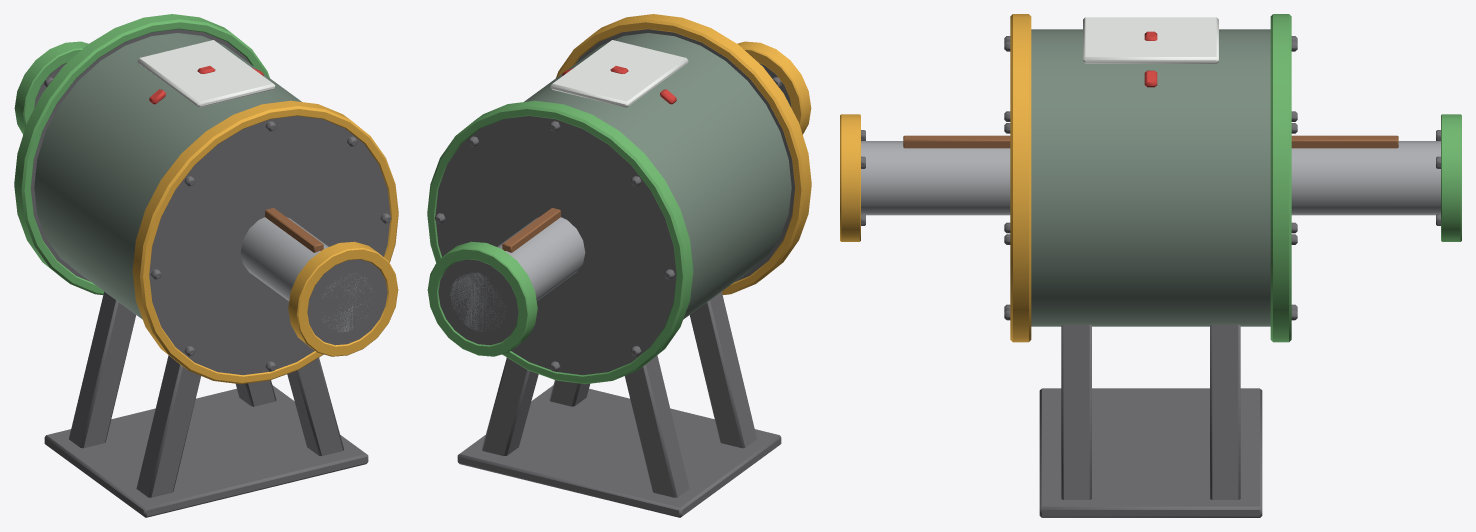
File: feSpinInverter.fbx
The picture shows the model from 3 angles, left to right: view 1: azimuth 30°, elevation 25°; view 2: azimuth 150°, elevation 25°; view 3: azimuth 270°, elevation 25°; orthographic projection. The views are drawn at different scales.
Parts seen in each view (by area): view 1: feSpinInverter_Base, FeSpinOut_Inverter, FeSpinIn_Inverter; view 2: feSpinInverter_Base, FeSpinIn_Inverter, FeSpinOut_Inverter; view 3: feSpinInverter_Base, FeSpinIn_Inverter, FeSpinOut_Inverter.
Boxes of the visible parts, x1,y1,x2,y2 form: feSpinInverter_Base: [14, 14, 398, 517]; FeSpinOut_Inverter: [240, 208, 398, 356]; FeSpinIn_Inverter: [14, 41, 88, 134]; feSpinInverter_Base: [427, 14, 811, 517]; FeSpinIn_Inverter: [427, 208, 585, 356]; FeSpinOut_Inverter: [737, 41, 811, 134]; feSpinInverter_Base: [1004, 14, 1297, 517]; FeSpinIn_Inverter: [1291, 114, 1461, 241]; FeSpinOut_Inverter: [840, 114, 1010, 241].
Size of the model in its own units: 0.53 by 0.7704 by 1.
